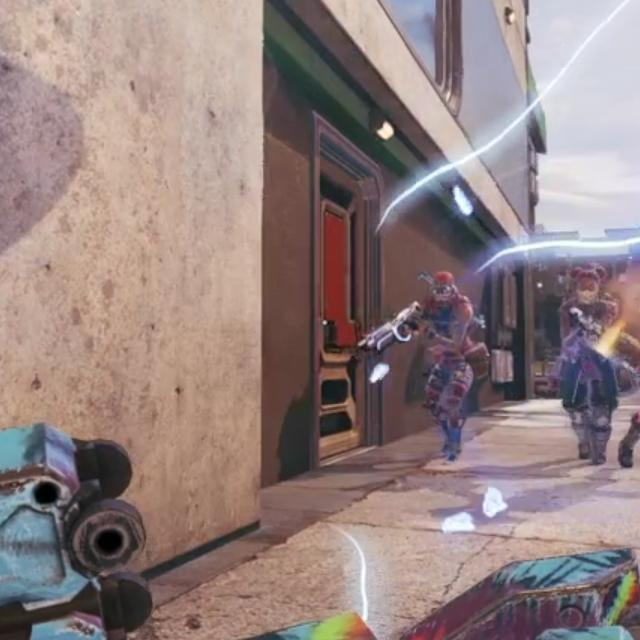avatar: (555, 258, 621, 466), (411, 270, 478, 464)
